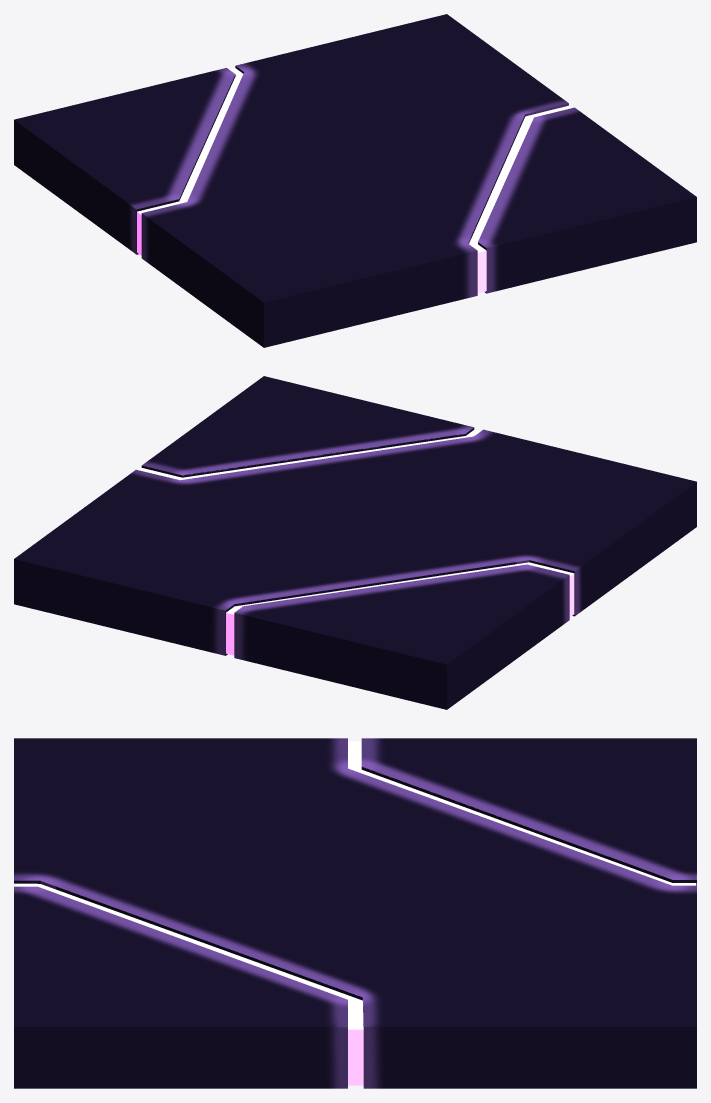
The model's file is Cyber Floor 4.glb.
3 views of the same model, one above another, from view 1: azimuth 30°, elevation 25°; view 2: azimuth 150°, elevation 25°; view 3: azimuth 270°, elevation 25° (orthographic). The views are drawn at different scales.
Parts seen in each view (by area): view 1: polySurface14, pCube57; view 2: polySurface14, pCube57; view 3: polySurface14, pCube57.
Part boxes in pixels (bbox=[...]): polySurface14: bbox=[14, 14, 696, 347]; pCube57: bbox=[137, 68, 571, 293]; polySurface14: bbox=[14, 376, 696, 709]; pCube57: bbox=[139, 429, 574, 655]; polySurface14: bbox=[14, 738, 696, 1088]; pCube57: bbox=[14, 741, 696, 1085].
Bounding box in the file's own units: 1 × 0.1 × 1.
2 materials, 1 textured.
